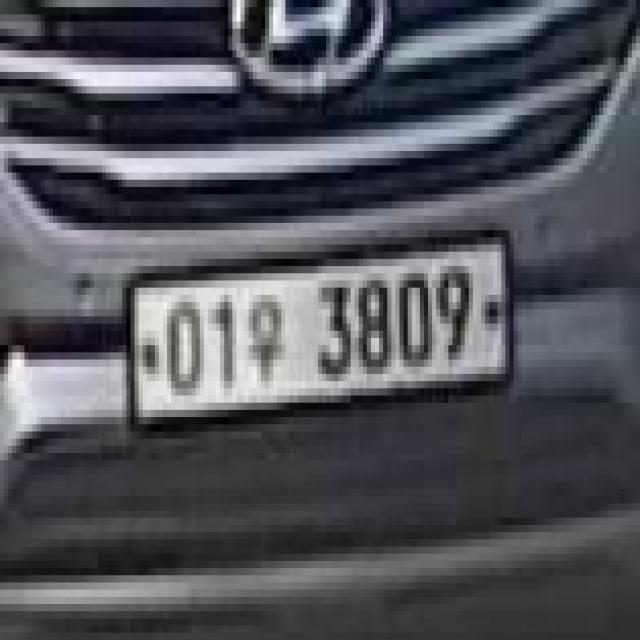illegal_plate: (121, 231, 518, 431)
